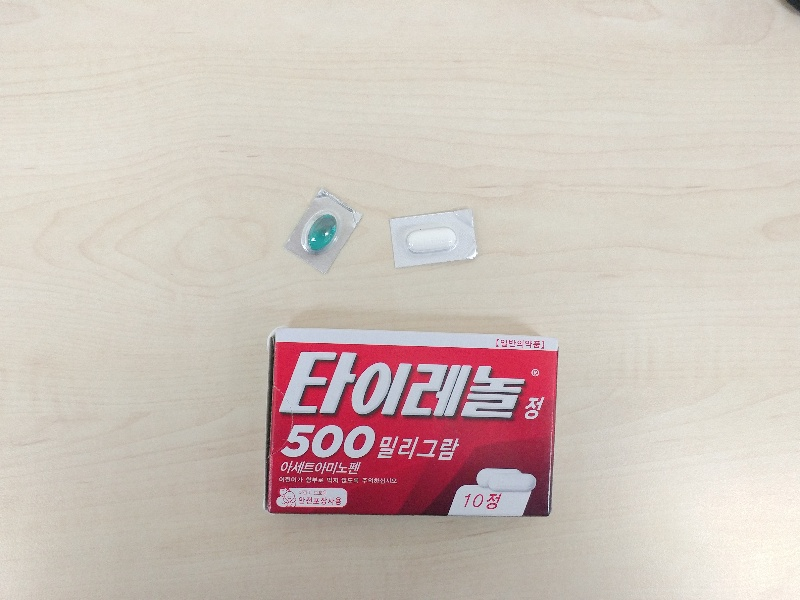pill_ezn: (285, 187, 361, 273)
tylenol: (269, 328, 557, 518)
